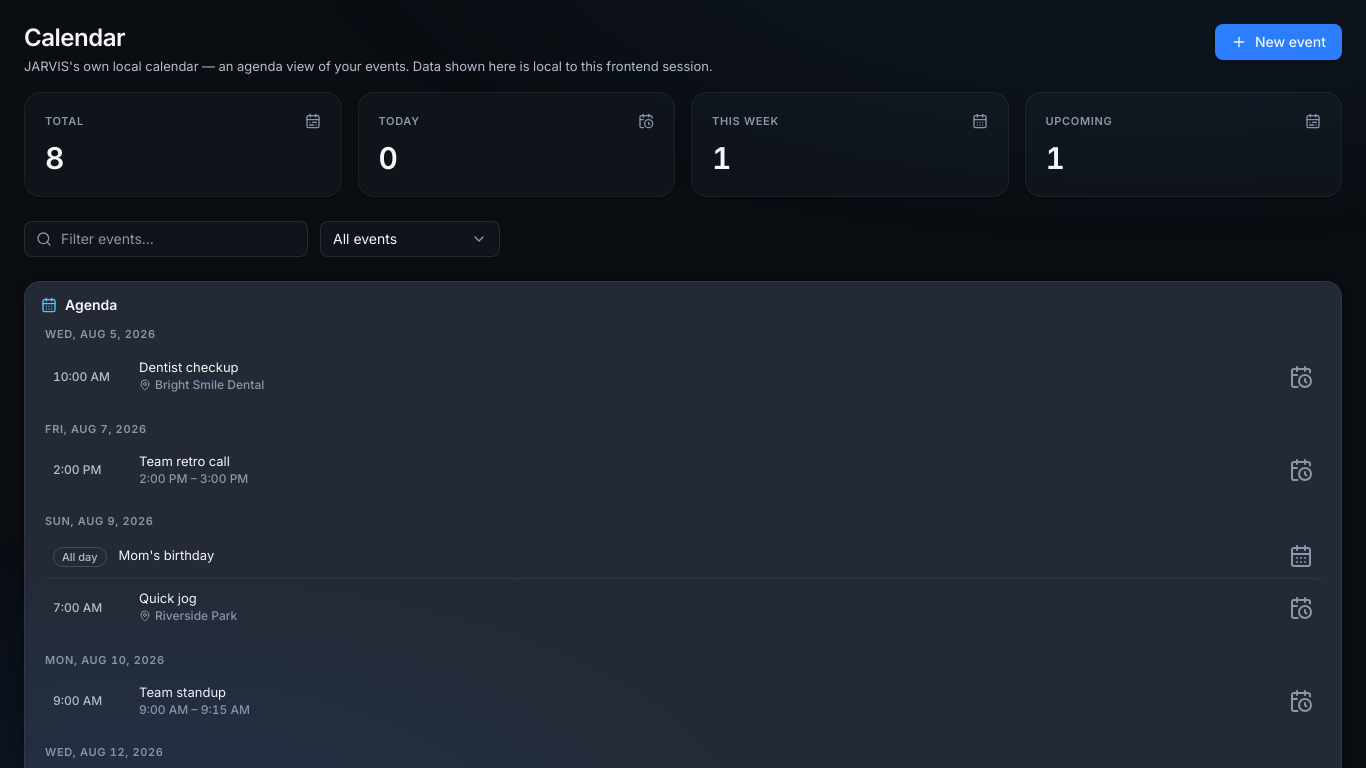
Test case: CalendarPage › creates a new event from the form
The image size is (1366, 768).
Expected: the button with test id "calendar-event-row-cal-1" is shown, [53,359,1313,392]
Click the button with test id "calendar-create" at (1278, 42), box [1215,24,1342,60]
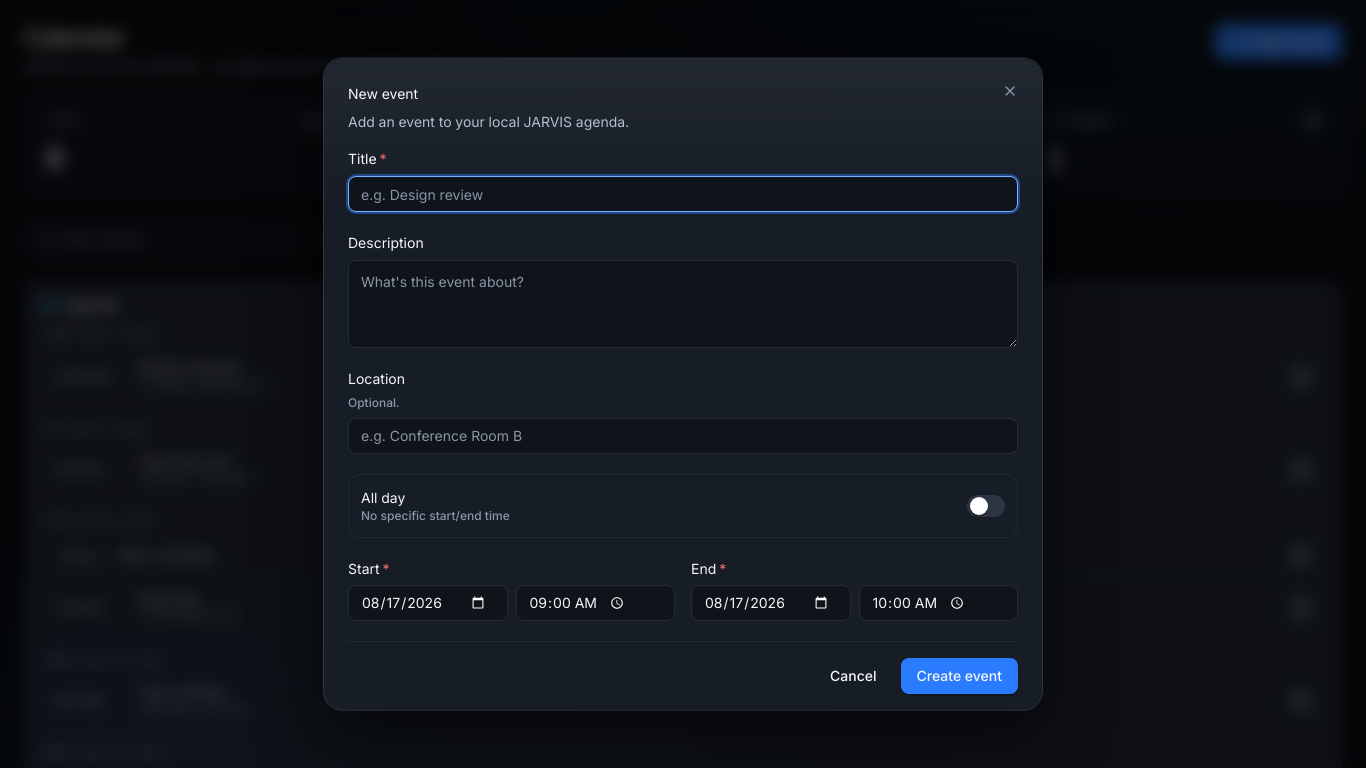
Type "Weekend hike" into the field with test id "calendar-form-title" at (683, 194), box [348,176,1018,212]
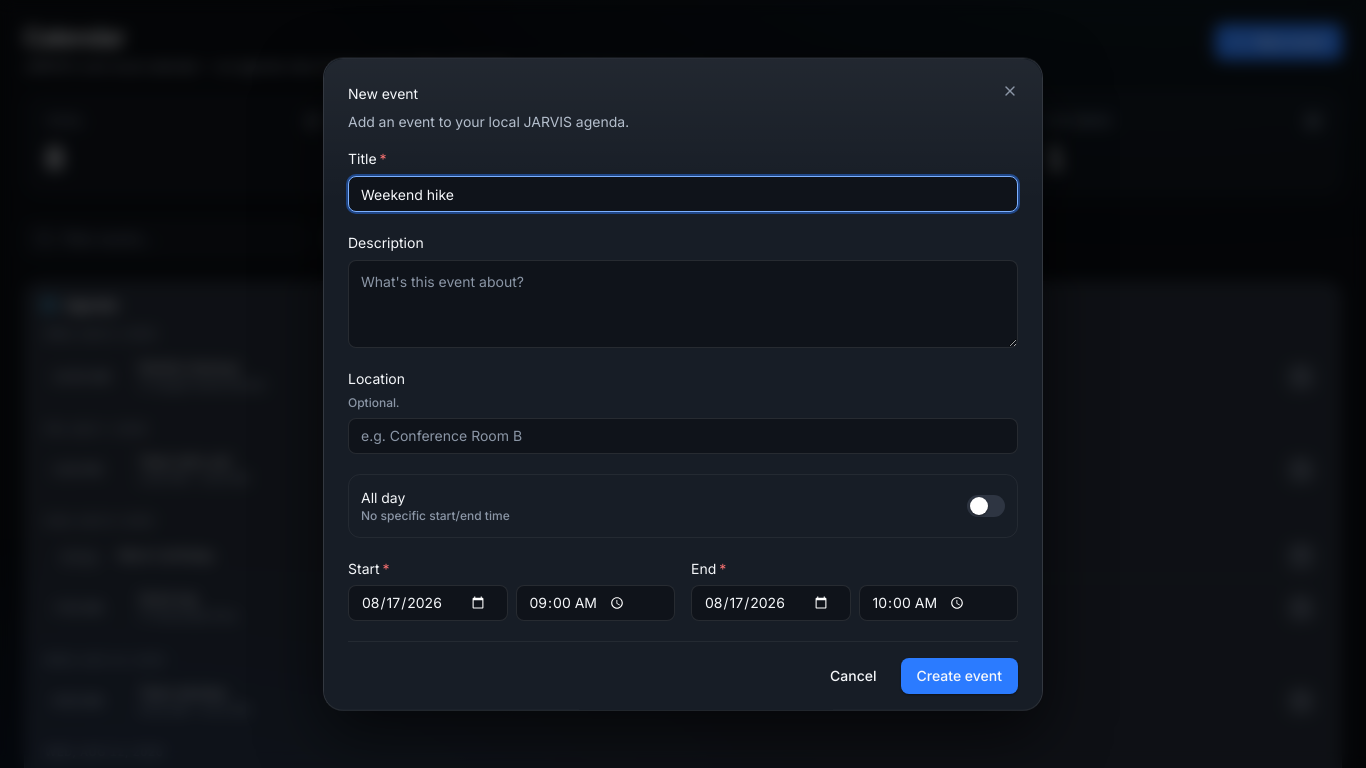
Type "Trail near the reservoir" into the text box with test id "calendar-form-description" at (683, 303), box [348,259,1018,347]
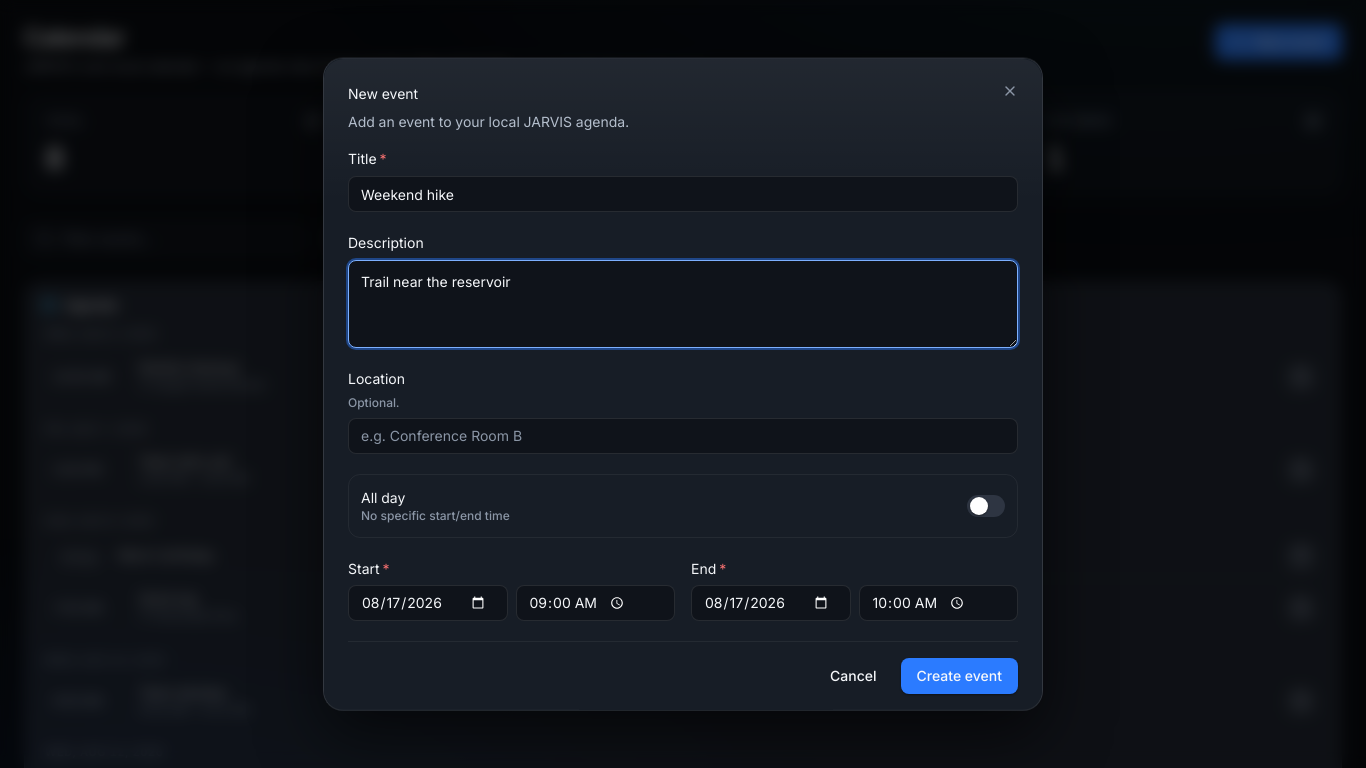
Click the button with test id "calendar-form-submit" at (959, 676), box [900,658,1018,694]
(page scrolled)
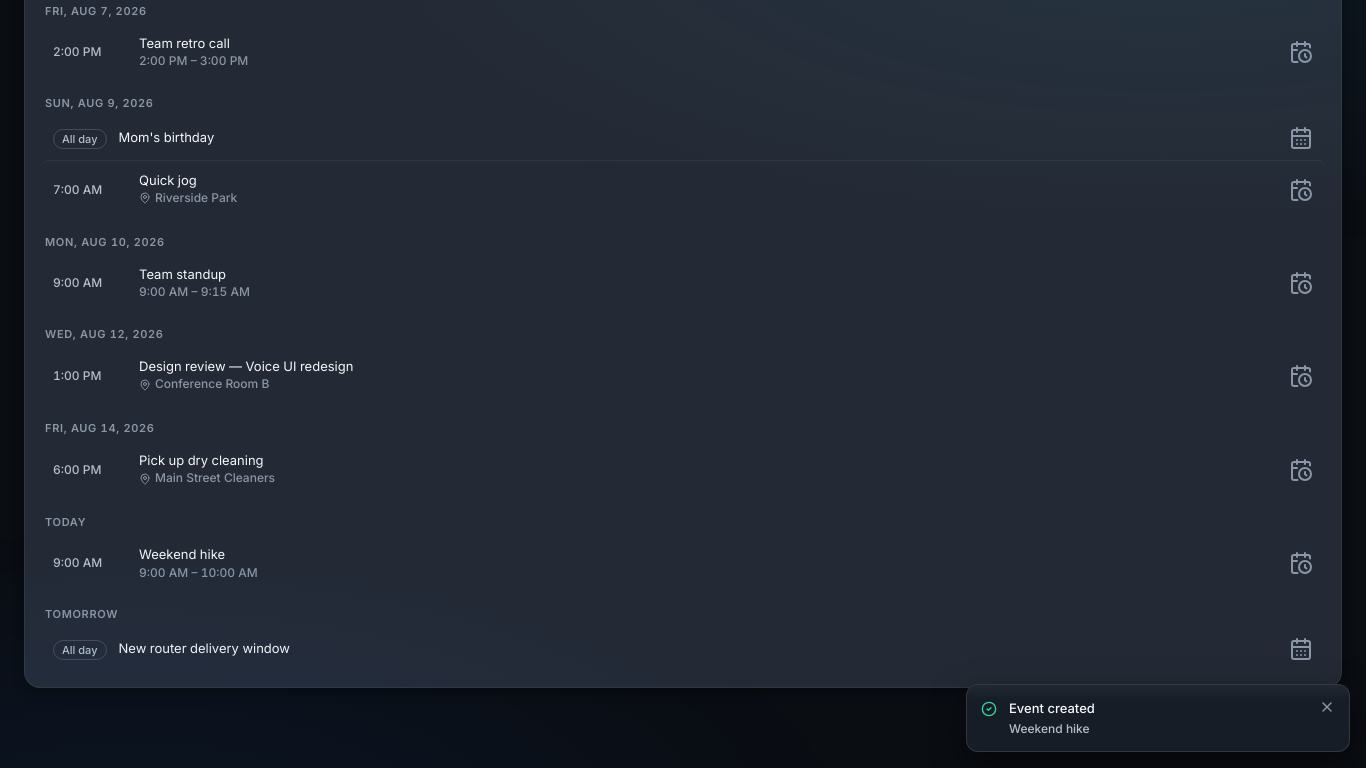
Now the text "Weekend hike" below "Fri, Aug 14, 2026" is shown, box [139,546,225,562]
